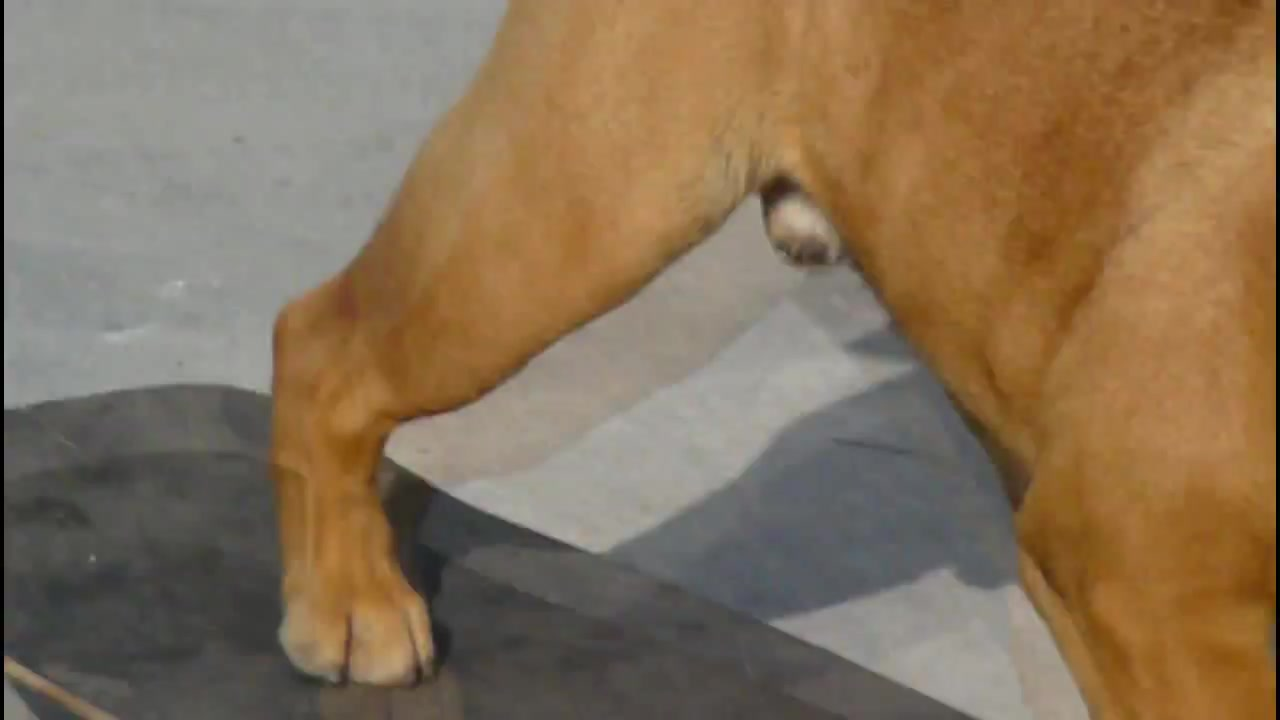dog: (266, 1, 1275, 716)
